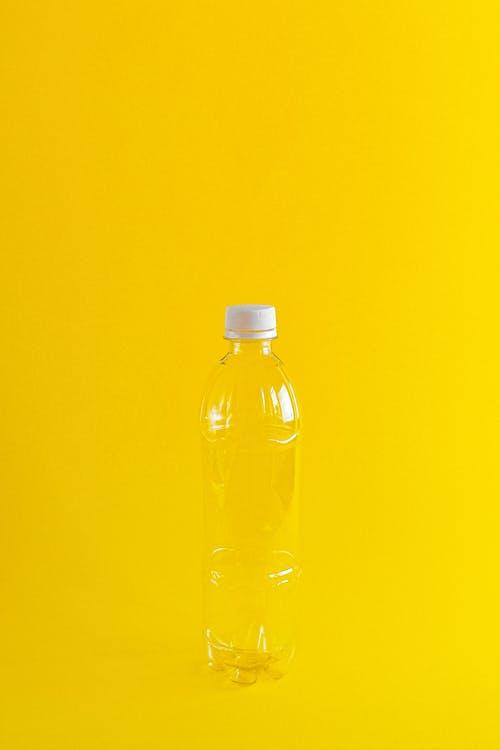Plastic: (203, 307, 302, 686)
